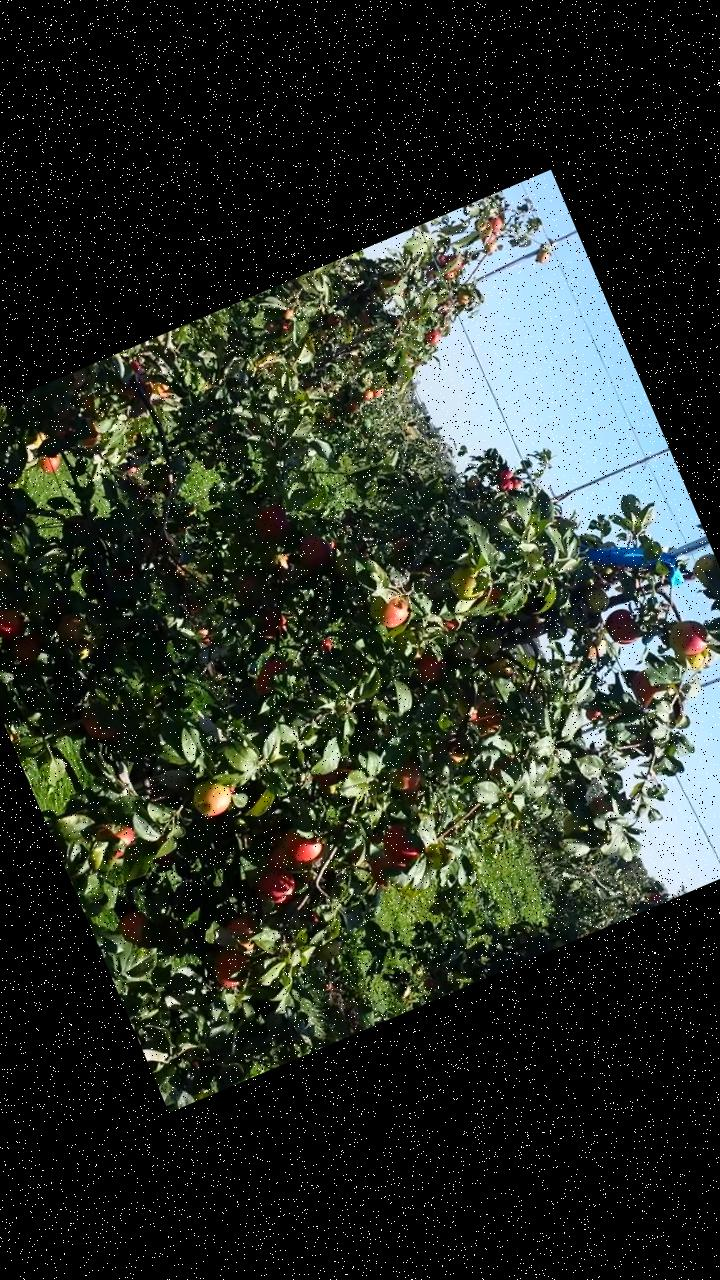Apple: (88, 810, 144, 864), (363, 582, 416, 636), (628, 659, 681, 712), (375, 816, 424, 868), (665, 610, 715, 660), (278, 820, 328, 869), (248, 652, 300, 698), (191, 772, 239, 820), (254, 862, 301, 908), (252, 499, 296, 544), (445, 560, 489, 604), (365, 845, 408, 890), (602, 604, 644, 649), (296, 532, 338, 574), (116, 904, 158, 946), (78, 700, 118, 744), (411, 646, 452, 688), (214, 949, 255, 991), (252, 602, 293, 642), (226, 911, 264, 954), (53, 609, 93, 649), (473, 696, 510, 736), (386, 758, 425, 794), (0, 600, 33, 642), (314, 760, 358, 791), (689, 549, 719, 591), (582, 580, 614, 614), (13, 630, 42, 664), (686, 645, 718, 675), (36, 446, 66, 476), (484, 653, 515, 681), (76, 419, 105, 448), (452, 633, 482, 661), (148, 376, 178, 404), (269, 842, 293, 872), (488, 580, 512, 607), (480, 632, 507, 656), (386, 534, 413, 554), (233, 575, 260, 595), (588, 637, 612, 659), (0, 556, 15, 591), (446, 742, 468, 763), (54, 422, 78, 440), (584, 702, 605, 722), (317, 634, 336, 654), (80, 393, 99, 413), (54, 404, 74, 421), (445, 616, 460, 630)
